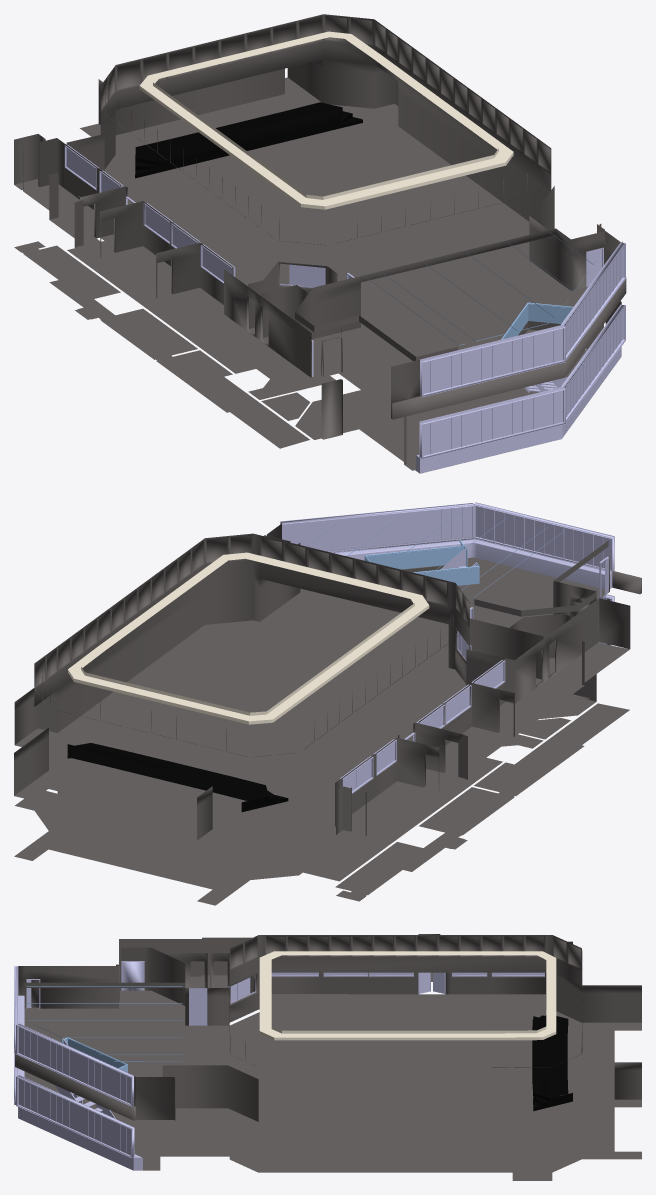
File: Mountbatten.glb
3 views of the same model, one above another, from view 1: azimuth 30°, elevation 25°; view 2: azimuth 150°, elevation 25°; view 3: azimuth 270°, elevation 25° (orthographic). The views are drawn at different scales.
Visible parts, largest first — view 1: Floor, Walls, Floor001, Drop_ceiling_section001, Box170, FixedWindow009, FixedWindow006, AC_line001, FixedWindow008, FixedWindow007, Box171, Ceiling (+5 smaller); view 2: Floor, Walls, Floor001, Drop_ceiling_section001, FixedWindow007, FixedWindow006, Box170, AC_line, Box171, Ceiling, FixedWindow005, FixedWindow002; view 3: Floor, Walls, Floor001, Drop_ceiling_section001, FixedWindow008, FixedWindow007, Box170, AC_line001, Ceiling, Plane002, PivotDoor002, PivotDoor003 (+4 smaller).
Boxes of the visible parts, <box> form: Floor: <box>14,77,587,389</box>; Walls: <box>14,14,626,419</box>; Floor001: <box>14,234,621,473</box>; Drop_ceiling_section001: <box>139,31,513,209</box>; Box170: <box>135,102,362,178</box>; FixedWindow009: <box>419,386,565,459</box>; FixedWindow006: <box>420,324,565,397</box>; AC_line001: <box>416,347,621,473</box>; FixedWindow008: <box>561,304,625,422</box>; FixedWindow007: <box>561,242,625,360</box>; Box171: <box>503,303,572,339</box>; Ceiling: <box>295,312,457,361</box>; Floor: <box>14,557,629,844</box>; Walls: <box>14,523,641,840</box>; Floor001: <box>14,598,629,905</box>; Drop_ceiling_section001: <box>68,552,429,724</box>; FixedWindow007: <box>280,503,474,552</box>; FixedWindow006: <box>473,502,614,572</box>; Box170: <box>67,743,288,812</box>; AC_line: <box>334,539,612,589</box>; Box171: <box>364,539,479,585</box>; Ceiling: <box>474,540,608,616</box>; FixedWindow005: <box>340,756,373,793</box>; FixedWindow002: <box>443,684,471,724</box>; Floor: <box>24,972,641,1128</box>; Walls: <box>15,934,641,1121</box>; Floor001: <box>22,1071,641,1180</box>; Drop_ceiling_section001: <box>259,951,556,1040</box>; FixedWindow008: <box>16,1075,134,1158</box>; FixedWindow007: <box>16,1023,134,1106</box>; Box170: <box>532,1015,572,1111</box>; AC_line001: <box>18,1068,142,1170</box>; Ceiling: <box>24,982,185,987</box>; Plane002: <box>26,986,182,1061</box>; PivotDoor002: <box>189,988,207,1025</box>; PivotDoor003: <box>121,961,144,990</box>.
Size of the model in its own units: 22.79 by 8.72 by 37.14.
